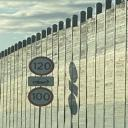speed_limit_100: (25, 85, 57, 108)
speed_limit_120: (28, 56, 56, 76)
